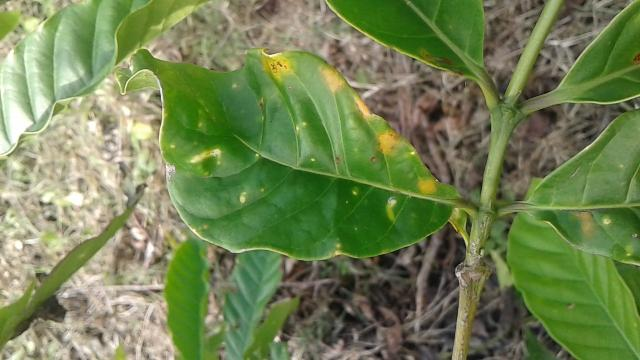rust_level_2: (115, 45, 454, 261)
